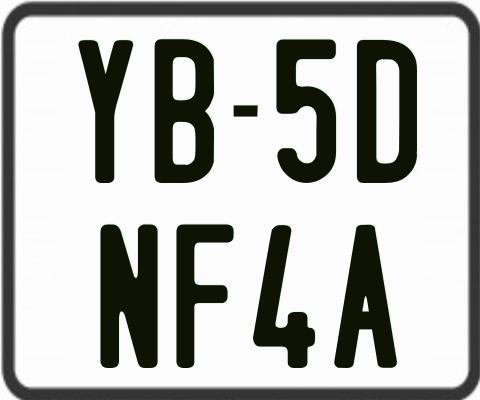4: (250, 225, 315, 370)
5: (273, 36, 336, 183)
A: (334, 225, 398, 373)
B: (152, 36, 215, 184)
D: (354, 40, 420, 185)
F: (173, 224, 233, 373)
N: (97, 224, 161, 373)
Y: (79, 39, 137, 184)
